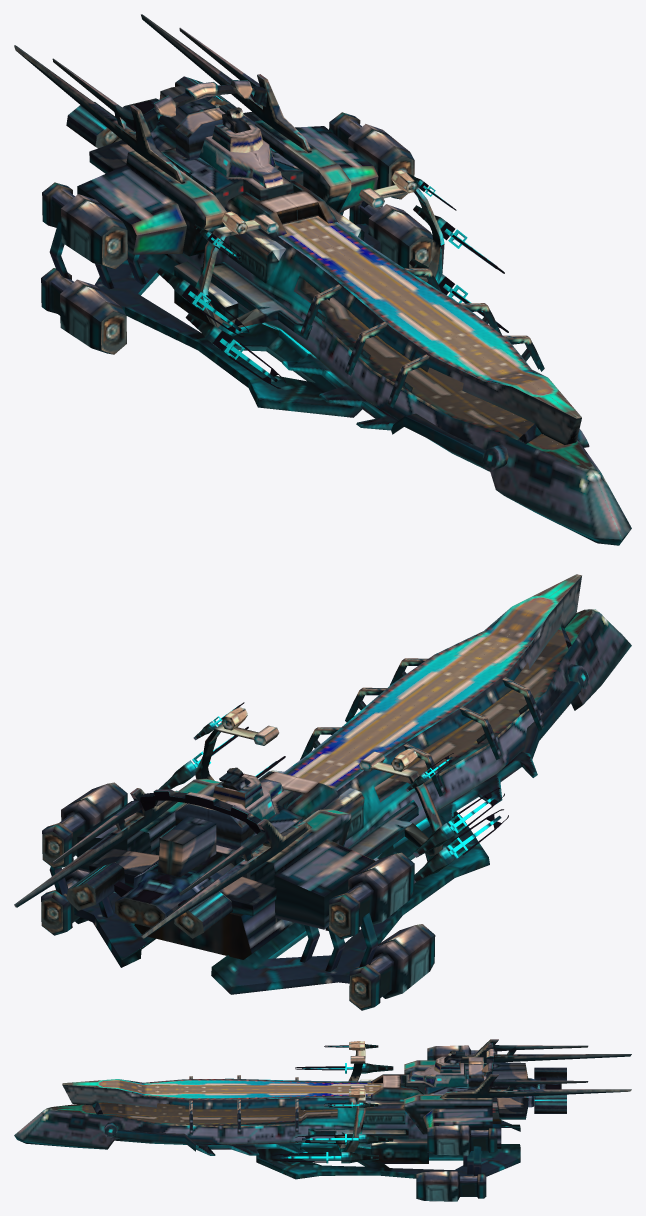
The model's file is mx_Zhengfu.fbx.
3 renders of one model, top to bottom at view 1: azimuth 30°, elevation 25°; view 2: azimuth 150°, elevation 25°; view 3: azimuth 270°, elevation 25°, orthographic. The views are drawn at different scales.
Parts seen in each view (by area): view 1: mx_Zhengfu; view 2: mx_Zhengfu; view 3: mx_Zhengfu.
Part boxes in pixels (left/top/right/bottom): mx_Zhengfu: left=14, top=14, right=631, bottom=545; mx_Zhengfu: left=14, top=574, right=631, bottom=1010; mx_Zhengfu: left=14, top=1039, right=631, bottom=1201.
Size of the model in its own units: 266 by 140 by 728.
